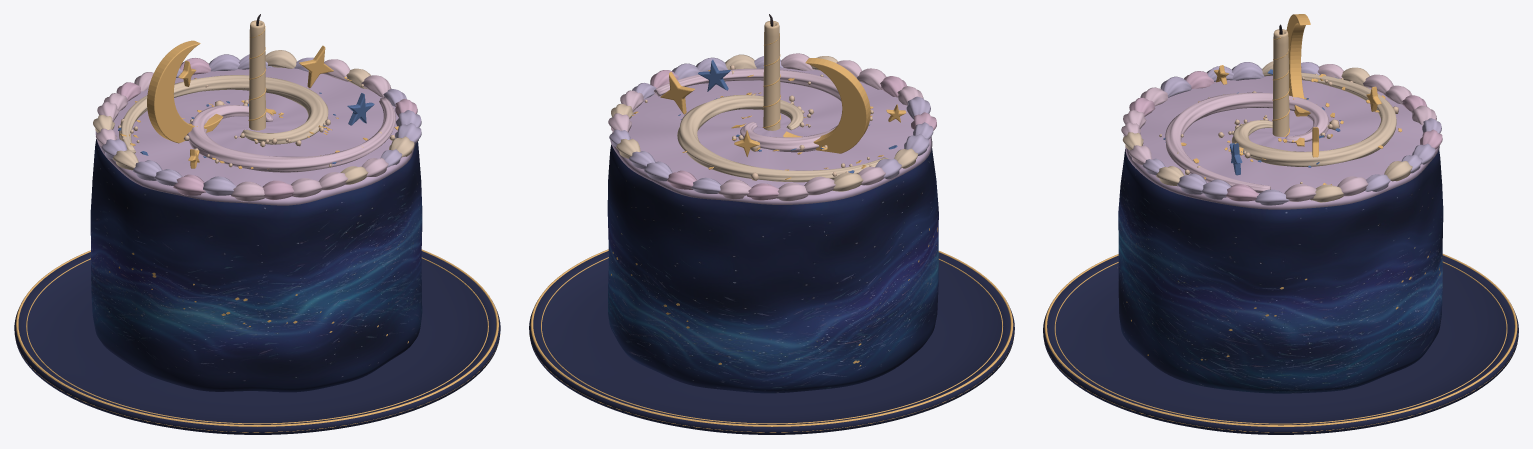
File: cake.glb
3 views of the same model, side by side, from view 1: azimuth 30°, elevation 25°; view 2: azimuth 150°, elevation 25°; view 3: azimuth 270°, elevation 25° (orthographic). The views are drawn at different scales.
Parts seen in each view (by area): view 1: Glaze and full cake body, Footed porcelain plate, Buttercream base, Burnished edible gold, Piped cream 0, Piped cream 1, Piped cream 2, Piped cream 3, Wax candle, Sugar detail pearl0, Hard sugar; view 2: Glaze and full cake body, Footed porcelain plate, Buttercream base, Burnished edible gold, Piped cream 0, Piped cream 1, Piped cream 2, Piped cream 3, Wax candle, Hard sugar, Sugar detail pearl0; view 3: Glaze and full cake body, Footed porcelain plate, Buttercream base, Piped cream 0, Burnished edible gold, Piped cream 1, Piped cream 2, Piped cream 3, Wax candle, Sugar detail pearl0.
Boxes of the visible parts, x1,y1,x2,y2 form: Glaze and full cake body: (90, 139, 422, 392); Footed porcelain plate: (14, 251, 500, 434); Buttercream base: (95, 67, 415, 205); Burnished edible gold: (14, 26, 500, 432); Piped cream 0: (95, 59, 395, 201); Piped cream 1: (93, 50, 414, 184); Piped cream 2: (101, 54, 421, 195); Piped cream 3: (116, 58, 417, 200); Wax candle: (249, 20, 265, 130); Sugar detail pearl0: (118, 84, 395, 169); Hard sugar: (118, 92, 374, 163); Glaze and full cake body: (607, 144, 938, 393); Footed porcelain plate: (529, 251, 1014, 434); Buttercream base: (610, 67, 932, 204); Burnished edible gold: (529, 33, 1014, 432); Piped cream 0: (608, 53, 923, 201); Piped cream 1: (611, 54, 917, 191); Piped cream 2: (609, 56, 933, 193); Piped cream 3: (650, 70, 936, 200); Wax candle: (763, 20, 780, 130); Hard sugar: (678, 59, 897, 173); Sugar detail pearl0: (644, 65, 873, 180); Glaze and full cake body: (1118, 149, 1443, 393); Footed porcelain plate: (1043, 255, 1518, 434); Buttercream base: (1125, 75, 1439, 209); Piped cream 0: (1121, 64, 1436, 201); Burnished edible gold: (1043, 14, 1518, 432); Piped cream 1: (1122, 61, 1412, 202); Piped cream 2: (1142, 62, 1441, 205); Piped cream 3: (1129, 71, 1442, 201); Wax candle: (1272, 29, 1289, 136); Sugar detail pearl0: (1159, 73, 1398, 183).
Bounding box in the file's own units: 2.97 × 2.27 × 2.97.
Materials: 12 (1 with a texture image).
